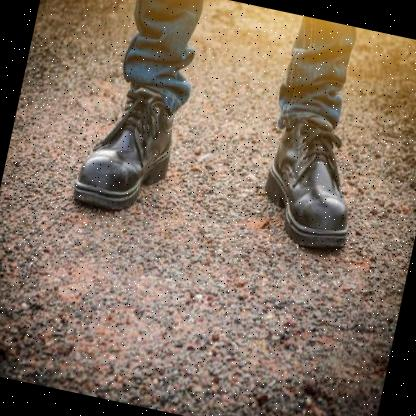bota: (66, 74, 188, 225), (251, 111, 373, 258)
